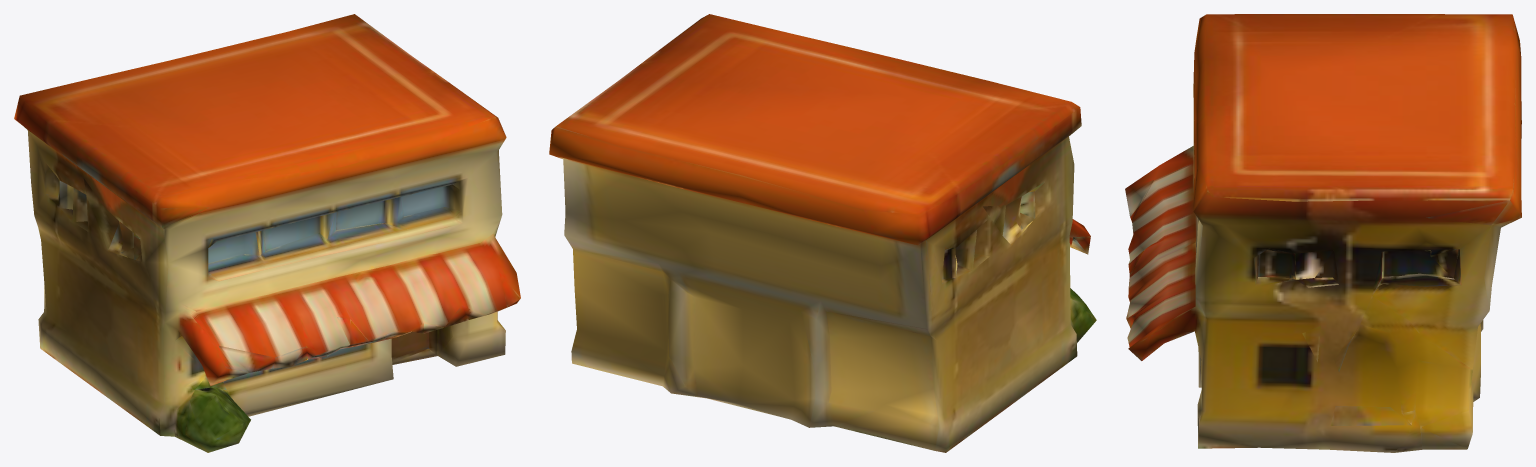
The model's file is building tall.fbx.
3 views of the same model, side by side, from view 1: azimuth 30°, elevation 25°; view 2: azimuth 150°, elevation 25°; view 3: azimuth 270°, elevation 25° (orthographic). The views are drawn at different scales.
Parts seen in each view (by area): view 1: building shop; view 2: building shop; view 3: building shop.
Boxes of the visible parts, bbox=[...] form: building shop: bbox=[14, 14, 520, 452]; building shop: bbox=[549, 14, 1096, 452]; building shop: bbox=[1125, 14, 1521, 452].
Bounding box in the file's own units: 248 × 159 × 222.
